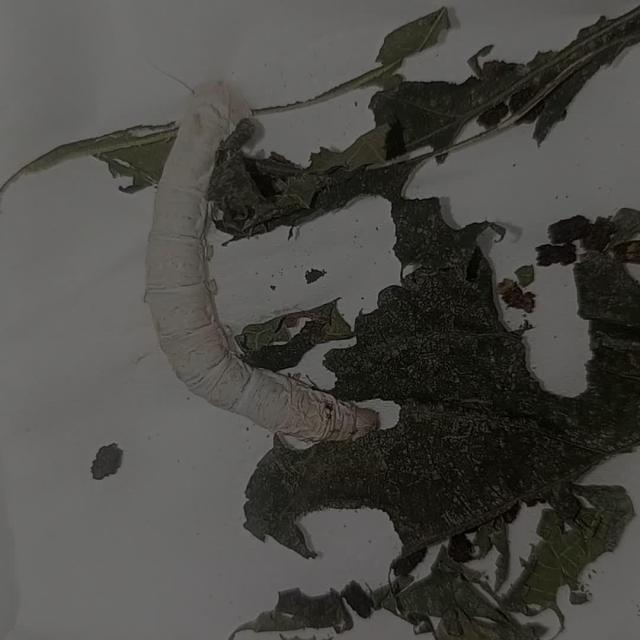Healthy: (140, 71, 387, 467)
